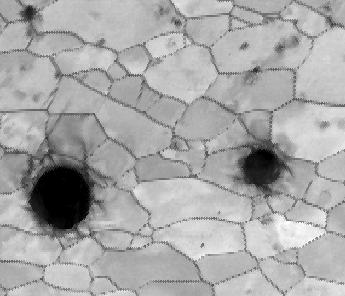good_void: (20, 142, 105, 239), (231, 140, 294, 196), (18, 4, 45, 43), (272, 34, 302, 60), (153, 2, 172, 20), (166, 138, 184, 154), (146, 54, 166, 68), (316, 113, 331, 130), (256, 214, 275, 227), (171, 15, 184, 31), (318, 1, 333, 14), (325, 15, 338, 29), (269, 240, 283, 252), (247, 65, 260, 77), (94, 36, 105, 48), (234, 41, 249, 49), (198, 238, 207, 249), (214, 207, 224, 215)
